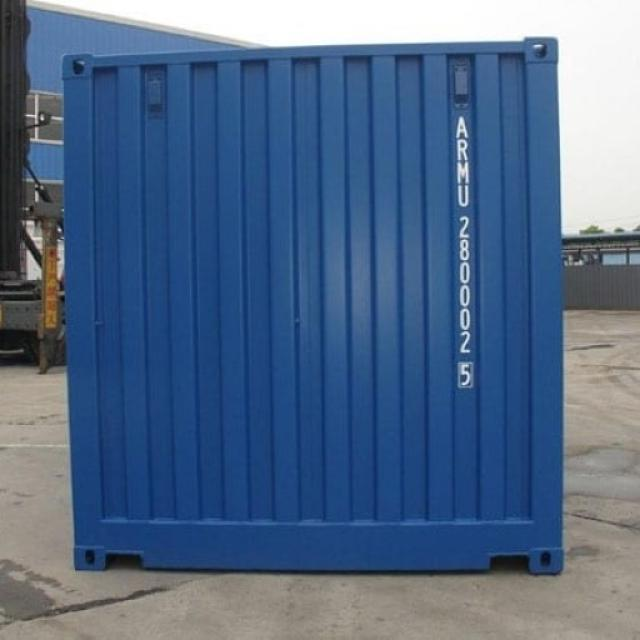container_number: (452, 112, 478, 398)
